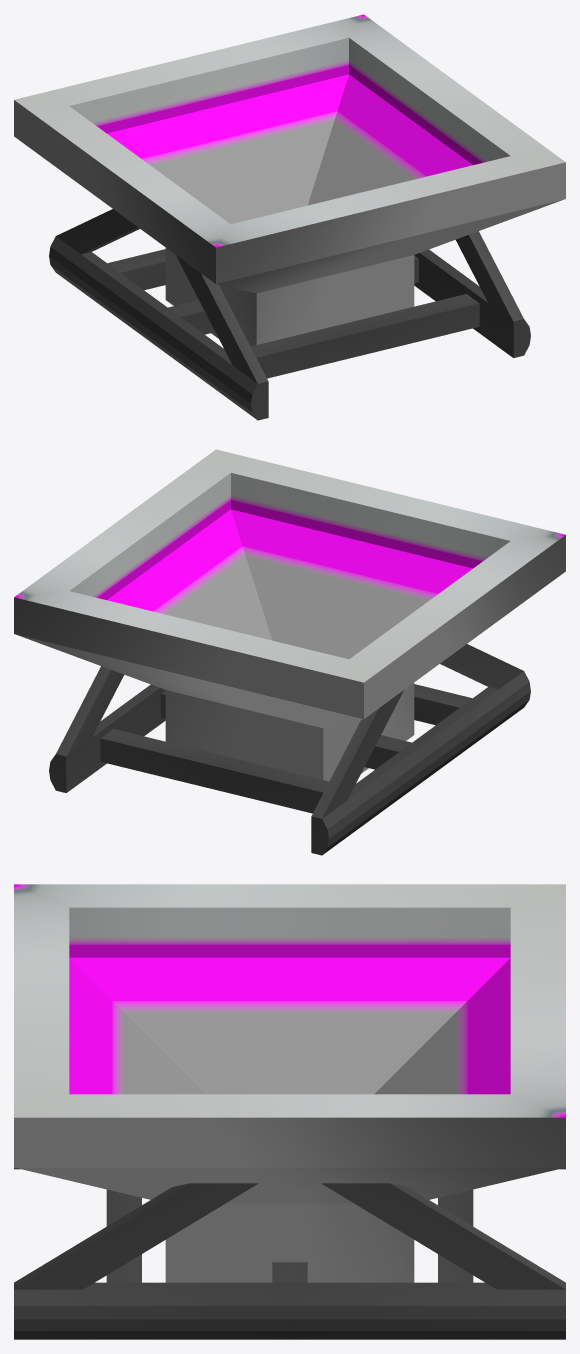
Rendered from conveyor_hopper.obj.
3 views of the same model, one above another, from view 1: azimuth 30°, elevation 25°; view 2: azimuth 150°, elevation 25°; view 3: azimuth 270°, elevation 25° (orthographic). The views are drawn at different scales.
Visible parts, largest first — view 1: ConveyorHopper_chmdl, Support_Alu_smdl_alu; view 2: ConveyorHopper_chmdl, Support_Alu_smdl_alu; view 3: ConveyorHopper_chmdl, Support_Alu_smdl_alu.
Part boxes in pixels (x1,y1,x2,y2): ConveyorHopper_chmdl: (14, 14, 565, 346); Support_Alu_smdl_alu: (49, 209, 530, 420); ConveyorHopper_chmdl: (14, 449, 565, 781); Support_Alu_smdl_alu: (49, 644, 530, 855); ConveyorHopper_chmdl: (14, 884, 565, 1282); Support_Alu_smdl_alu: (14, 1167, 565, 1339).
Size of the model in its own units: 1 by 0.5 by 1.
